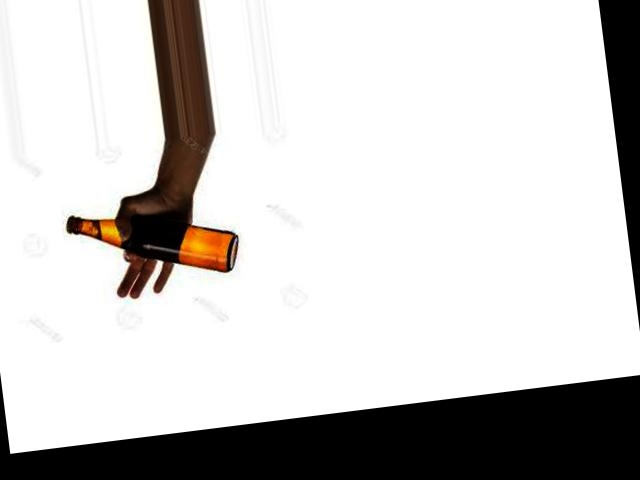beer: (68, 197, 241, 288)
